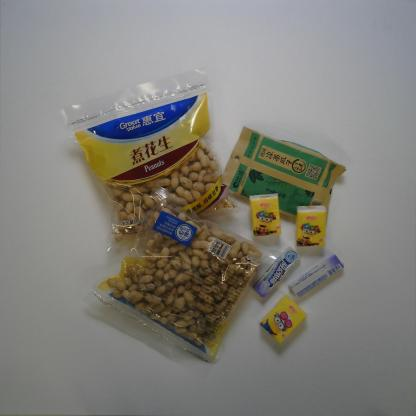Candy: (288, 253, 344, 299), (252, 247, 302, 298)
Dried Food: (88, 185, 277, 367), (61, 66, 243, 253), (220, 126, 346, 219)
Tissue: (258, 294, 306, 345), (249, 193, 281, 238), (294, 205, 328, 247)
